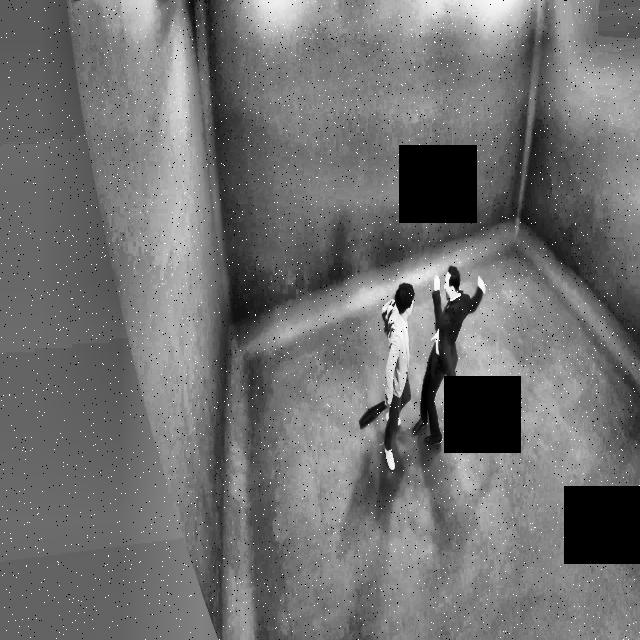assult: (352, 264, 488, 472)
